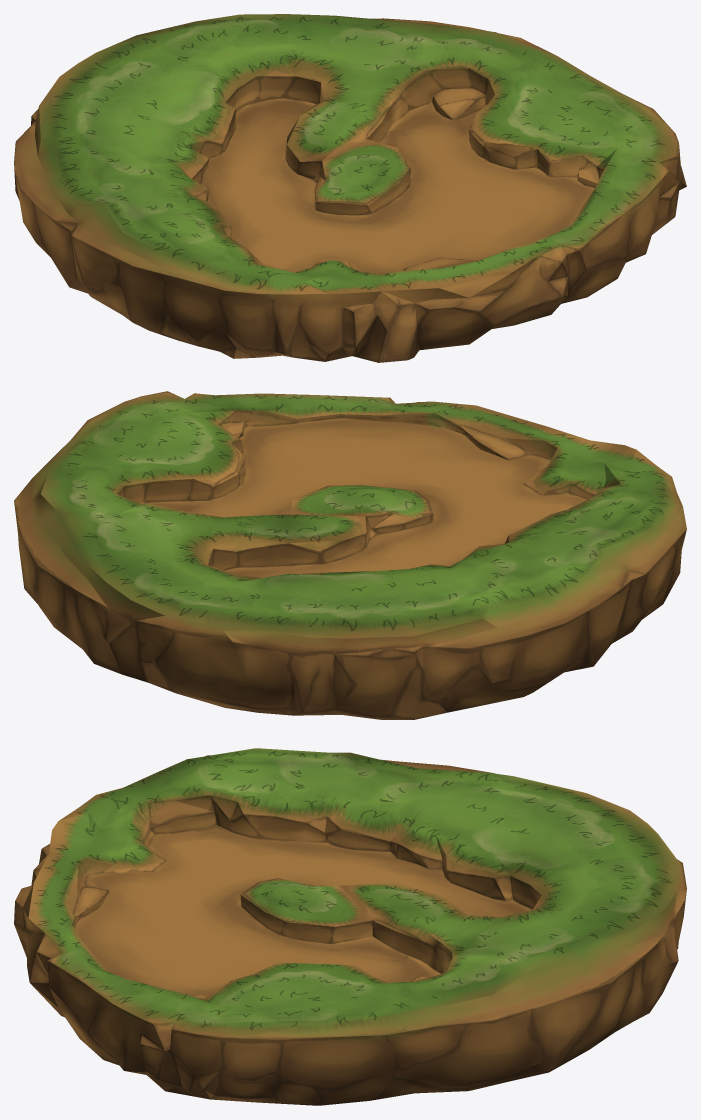
Rendered from Korean_Island_.fbx.
3 views of the same model, one above another, from view 1: azimuth 30°, elevation 25°; view 2: azimuth 150°, elevation 25°; view 3: azimuth 270°, elevation 25° (orthographic). The views are drawn at different scales.
Visible parts, largest first — view 1: terrain, Lake; view 2: terrain, Lake; view 3: terrain, Lake.
Boxes of the visible parts, bbox=[...] form: terrain: bbox=[14, 14, 686, 362]; Lake: bbox=[200, 98, 594, 274]; terrain: bbox=[14, 391, 686, 719]; Lake: bbox=[148, 418, 587, 577]; terrain: bbox=[14, 748, 686, 1105]; Lake: bbox=[75, 825, 532, 996].
Bounding box in the file's own units: 1990 × 327 × 1970.
